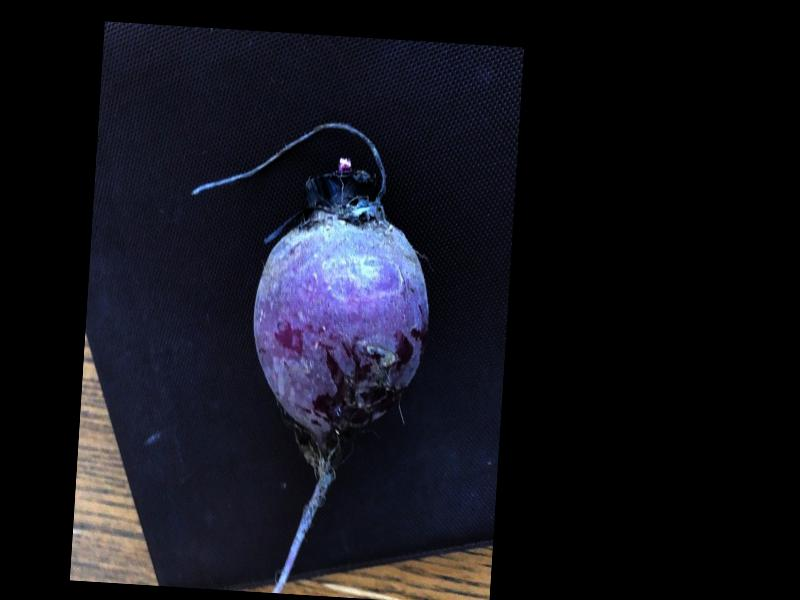Beet: (165, 113, 442, 600)
